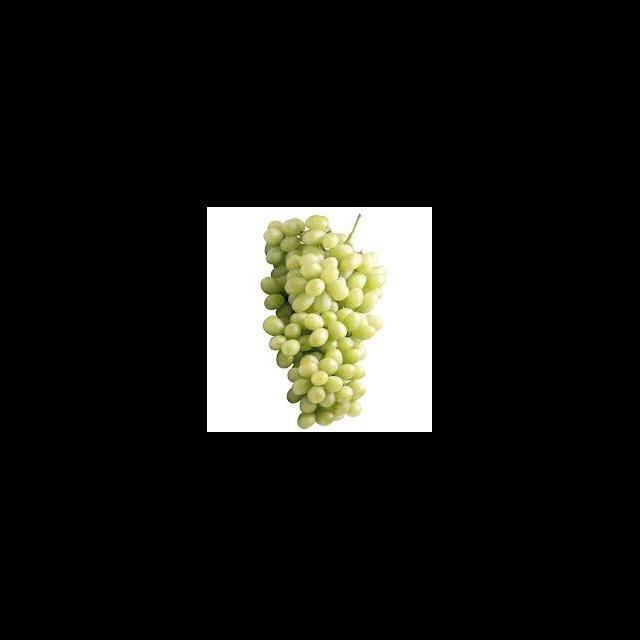grape: (259, 213, 386, 430)
